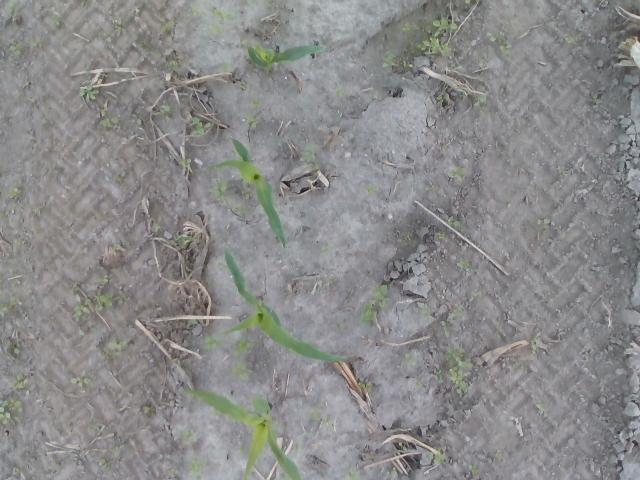Maize: (218, 245, 350, 363), (178, 386, 304, 480), (201, 136, 286, 248), (246, 41, 326, 73)
Weeds: (414, 36, 452, 56), (485, 30, 514, 55), (447, 366, 471, 396), (298, 144, 322, 174), (445, 345, 473, 368), (94, 290, 126, 309), (0, 398, 22, 424), (307, 408, 333, 430), (206, 176, 228, 202), (100, 341, 130, 360), (167, 232, 197, 250), (72, 294, 91, 322), (232, 335, 255, 357), (186, 457, 207, 480), (98, 108, 121, 129), (228, 362, 252, 382), (358, 300, 377, 325), (432, 18, 458, 36), (372, 284, 391, 306), (189, 117, 211, 136), (156, 15, 176, 34), (204, 333, 224, 351), (162, 51, 180, 71), (78, 84, 100, 100), (428, 446, 446, 464), (446, 167, 466, 182), (230, 202, 250, 217), (212, 8, 237, 20), (243, 112, 261, 128), (204, 22, 226, 35), (341, 465, 360, 480), (112, 16, 126, 36), (530, 331, 542, 354), (380, 52, 397, 68), (11, 373, 26, 391), (152, 106, 171, 120), (70, 376, 92, 388), (138, 39, 158, 52), (181, 428, 197, 444), (448, 304, 464, 320), (401, 352, 419, 366), (5, 340, 21, 355), (8, 42, 24, 57), (190, 3, 208, 16), (420, 304, 434, 320), (178, 155, 193, 169), (7, 292, 20, 308), (272, 471, 294, 480), (536, 217, 552, 229), (364, 184, 380, 196), (435, 92, 451, 104), (95, 273, 112, 284), (241, 182, 252, 199), (151, 220, 164, 234), (440, 320, 450, 338), (359, 380, 374, 392), (565, 33, 583, 43), (458, 257, 471, 270), (468, 290, 482, 302), (587, 92, 601, 104), (474, 92, 486, 106), (238, 80, 252, 92), (7, 186, 20, 198), (319, 244, 332, 256), (446, 215, 459, 227), (468, 464, 480, 476), (98, 458, 111, 469), (50, 12, 61, 24), (114, 171, 126, 182), (209, 406, 222, 416), (188, 316, 204, 324), (401, 21, 412, 32), (398, 440, 408, 452), (0, 303, 9, 316), (386, 466, 397, 476), (221, 60, 232, 70), (333, 322, 345, 331), (332, 88, 344, 97), (492, 452, 504, 461), (168, 270, 178, 280), (558, 165, 568, 175), (114, 444, 125, 453), (435, 368, 443, 380), (402, 60, 414, 68), (294, 443, 301, 456), (12, 466, 21, 476), (172, 357, 182, 366), (536, 403, 546, 412), (250, 98, 260, 107), (438, 231, 447, 240), (144, 404, 152, 414), (238, 445, 248, 453), (476, 54, 486, 62), (8, 1, 15, 12), (414, 380, 422, 389), (113, 243, 121, 252), (425, 185, 437, 191), (30, 40, 40, 47), (274, 420, 284, 426), (364, 453, 372, 460), (168, 469, 175, 477), (89, 326, 98, 332), (462, 0, 472, 5), (520, 365, 528, 371), (238, 36, 244, 43), (33, 207, 38, 213)
